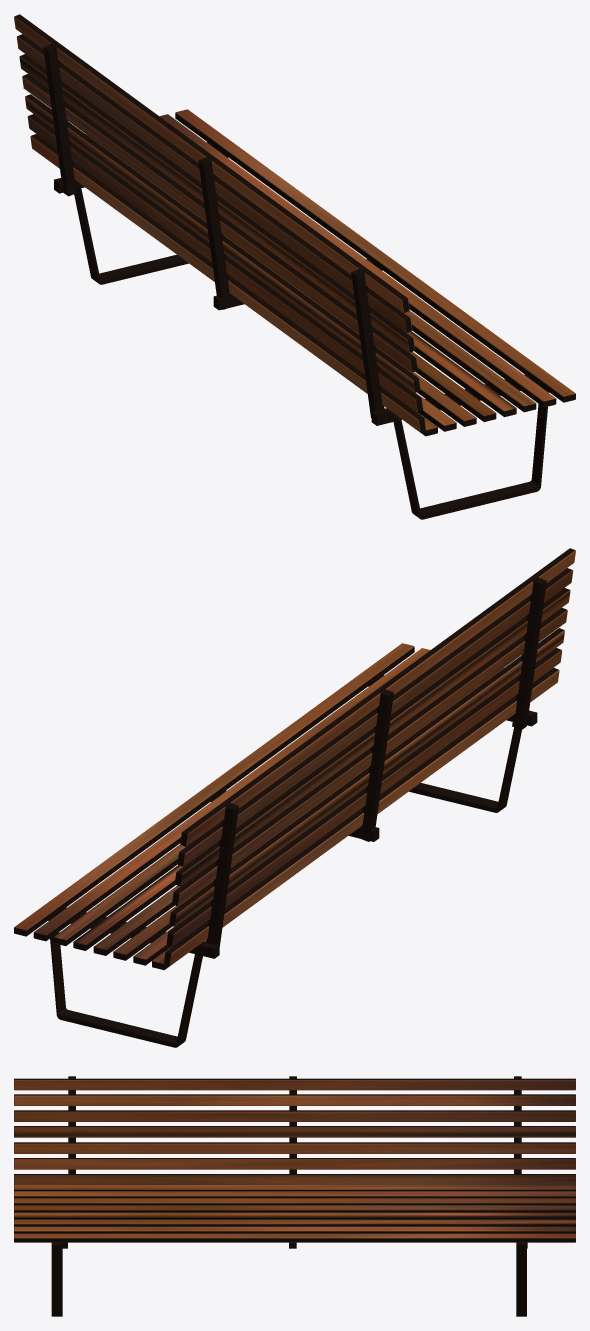
File: Bench.FBX
3 renders of one model, top to bottom at view 1: azimuth 30°, elevation 25°; view 2: azimuth 150°, elevation 25°; view 3: azimuth 270°, elevation 25°, orthographic. The views are drawn at different scales.
Visible parts, largest first — view 1: Bench; view 2: Bench; view 3: Bench.
Boxes of the visible parts, x1,y1,x2,y2 form: Bench: (14,14,575,519); Bench: (14,548,575,1047); Bench: (14,1076,575,1316).
Size of the model in its own units: 0.5304 by 0.6963 by 1.95.
